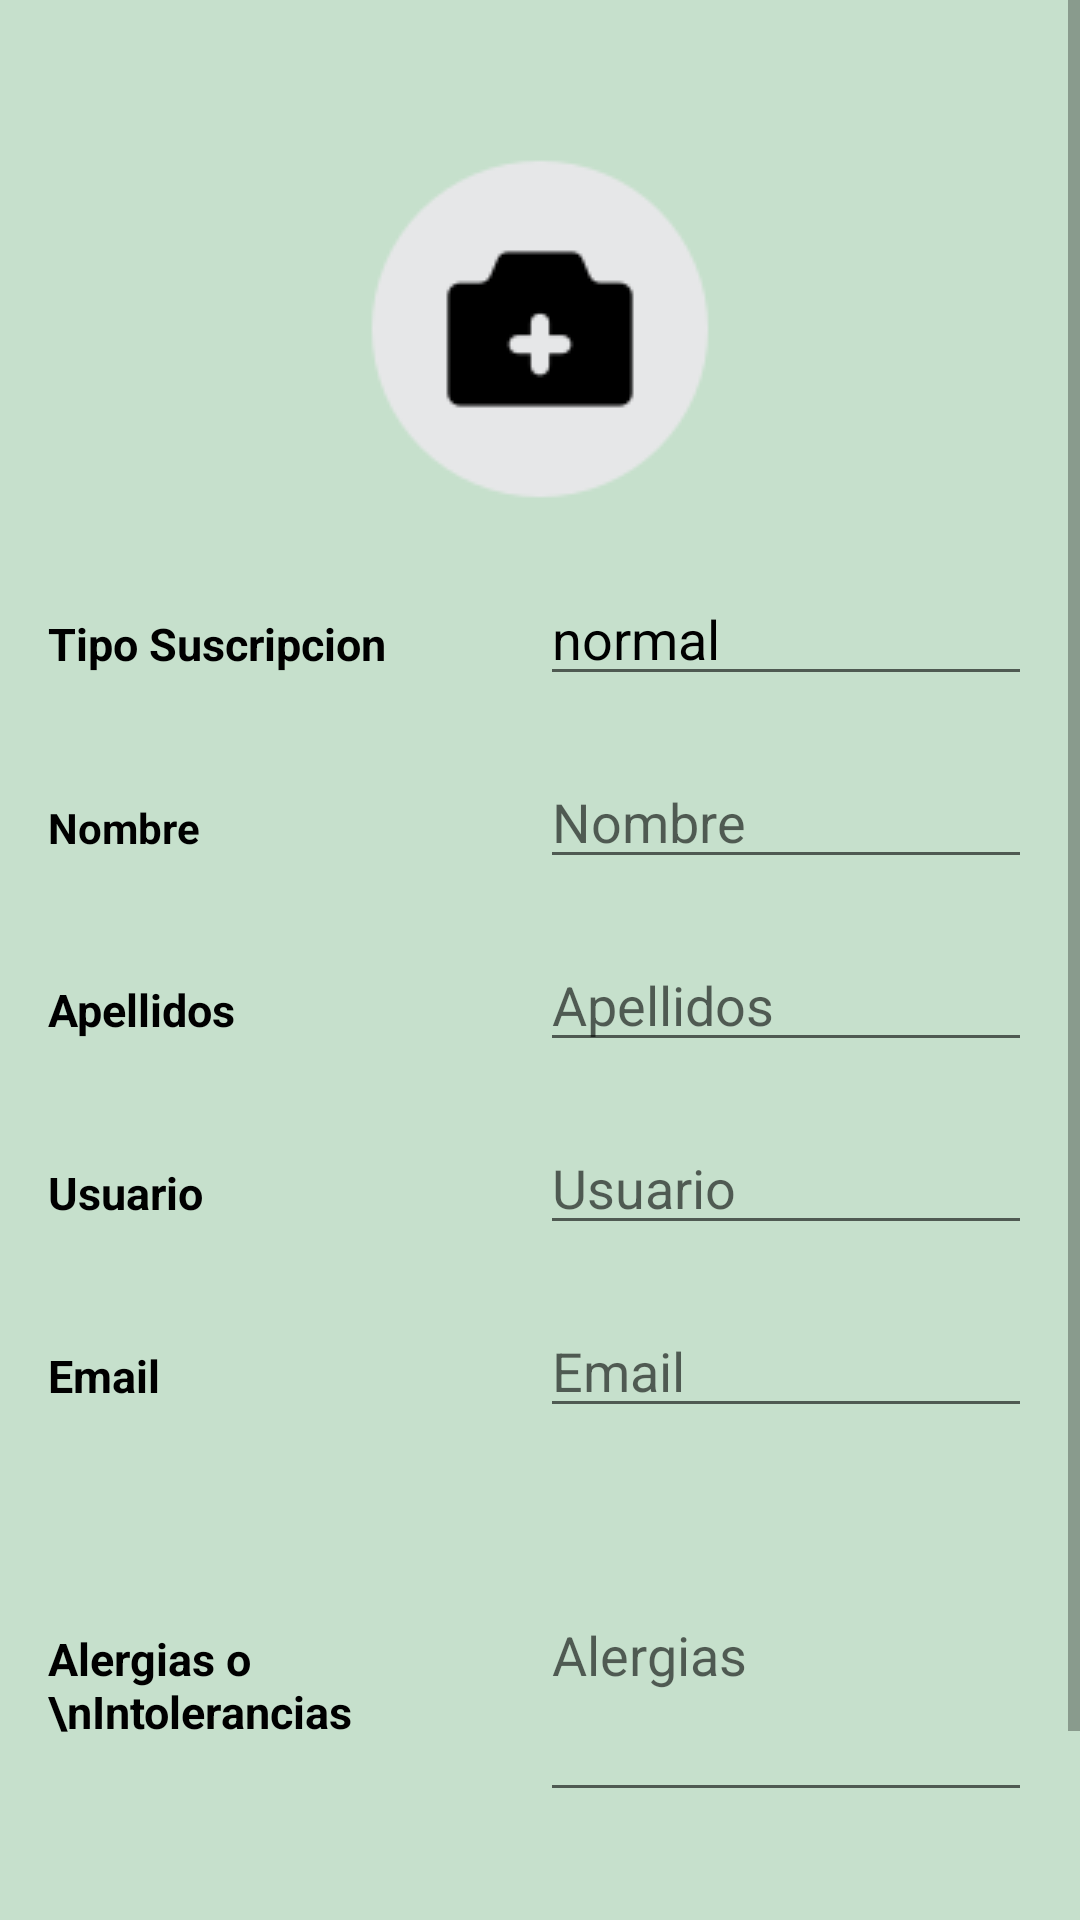

Icons on this 1080 × 1920 Android screen, each with the point to tap as (x,y):
anadirfoto: (540,329)
